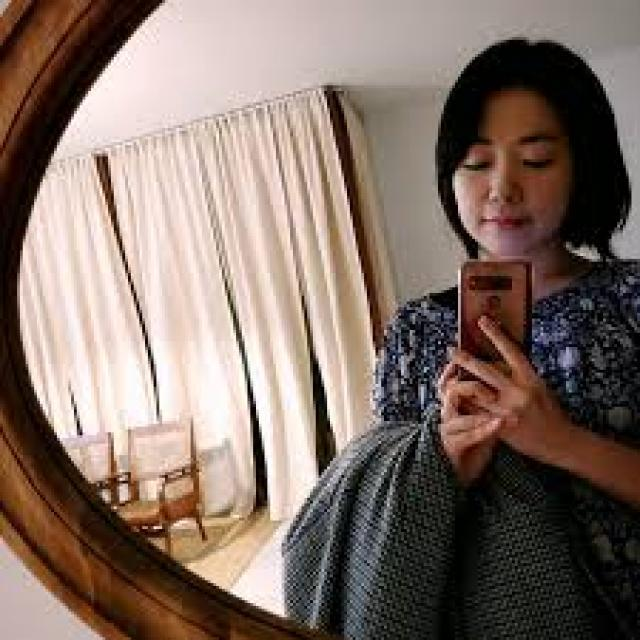Phone: (454, 253, 534, 387)
